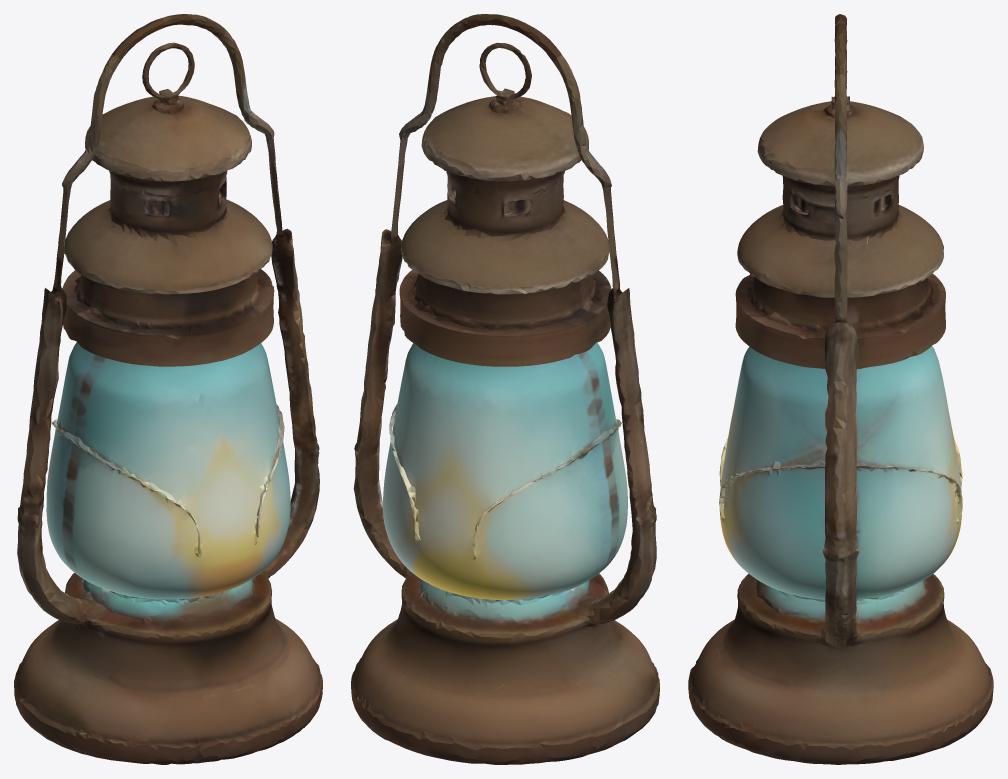
3 views of the same model, side by side, from view 1: azimuth 30°, elevation 25°; view 2: azimuth 150°, elevation 25°; view 3: azimuth 270°, elevation 25° (orthographic).
Parts seen in each view (by area): view 1: BeadLantern; view 2: BeadLantern; view 3: BeadLantern.
Boxes of the visible parts, x1,y1,x2,y2 form: BeadLantern: [14, 14, 322, 764]; BeadLantern: [351, 14, 659, 764]; BeadLantern: [688, 14, 993, 764].
Size of the model in its own units: 0.8644 by 1.9 by 0.7719.
Materials: 1 (1 with a texture image).
